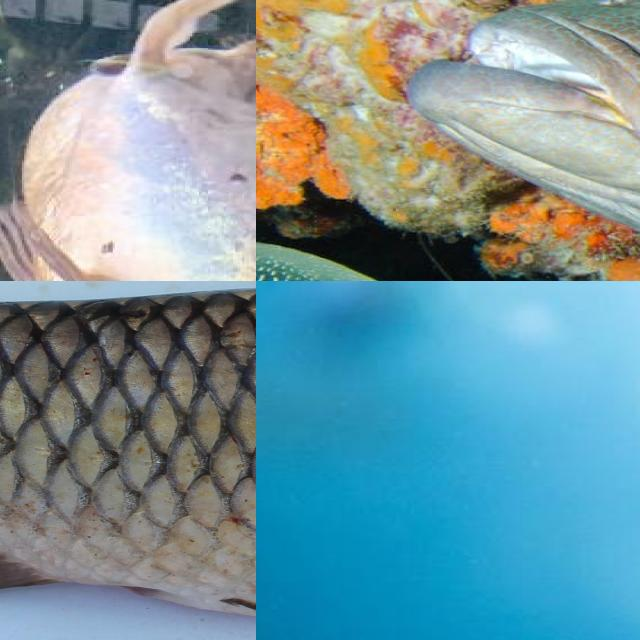fish: (0, 281, 256, 640), (0, 0, 256, 281)
